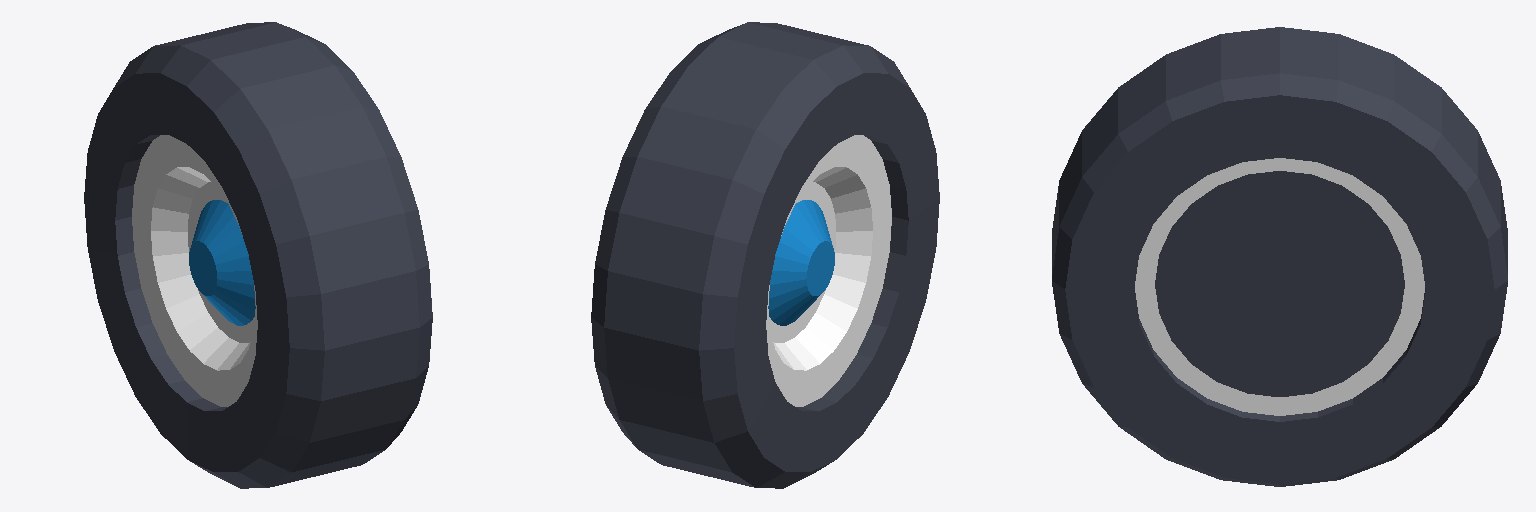
Rendered from Wheel04.obj.
The picture shows the model from 3 angles: view 1: azimuth 30°, elevation 25°; view 2: azimuth 150°, elevation 25°; view 3: azimuth 270°, elevation 25°; orthographic projection.
Parts seen in each view (by area): view 1: Wheel04; view 2: Wheel04; view 3: Wheel04.
Boxes of the visible parts, box(x1,y1,x2,y2) form: Wheel04: box(84, 22, 432, 488); Wheel04: box(591, 22, 939, 488); Wheel04: box(1052, 27, 1507, 486).
Size of the model in its own units: 0.2163 by 0.6161 by 0.6161.